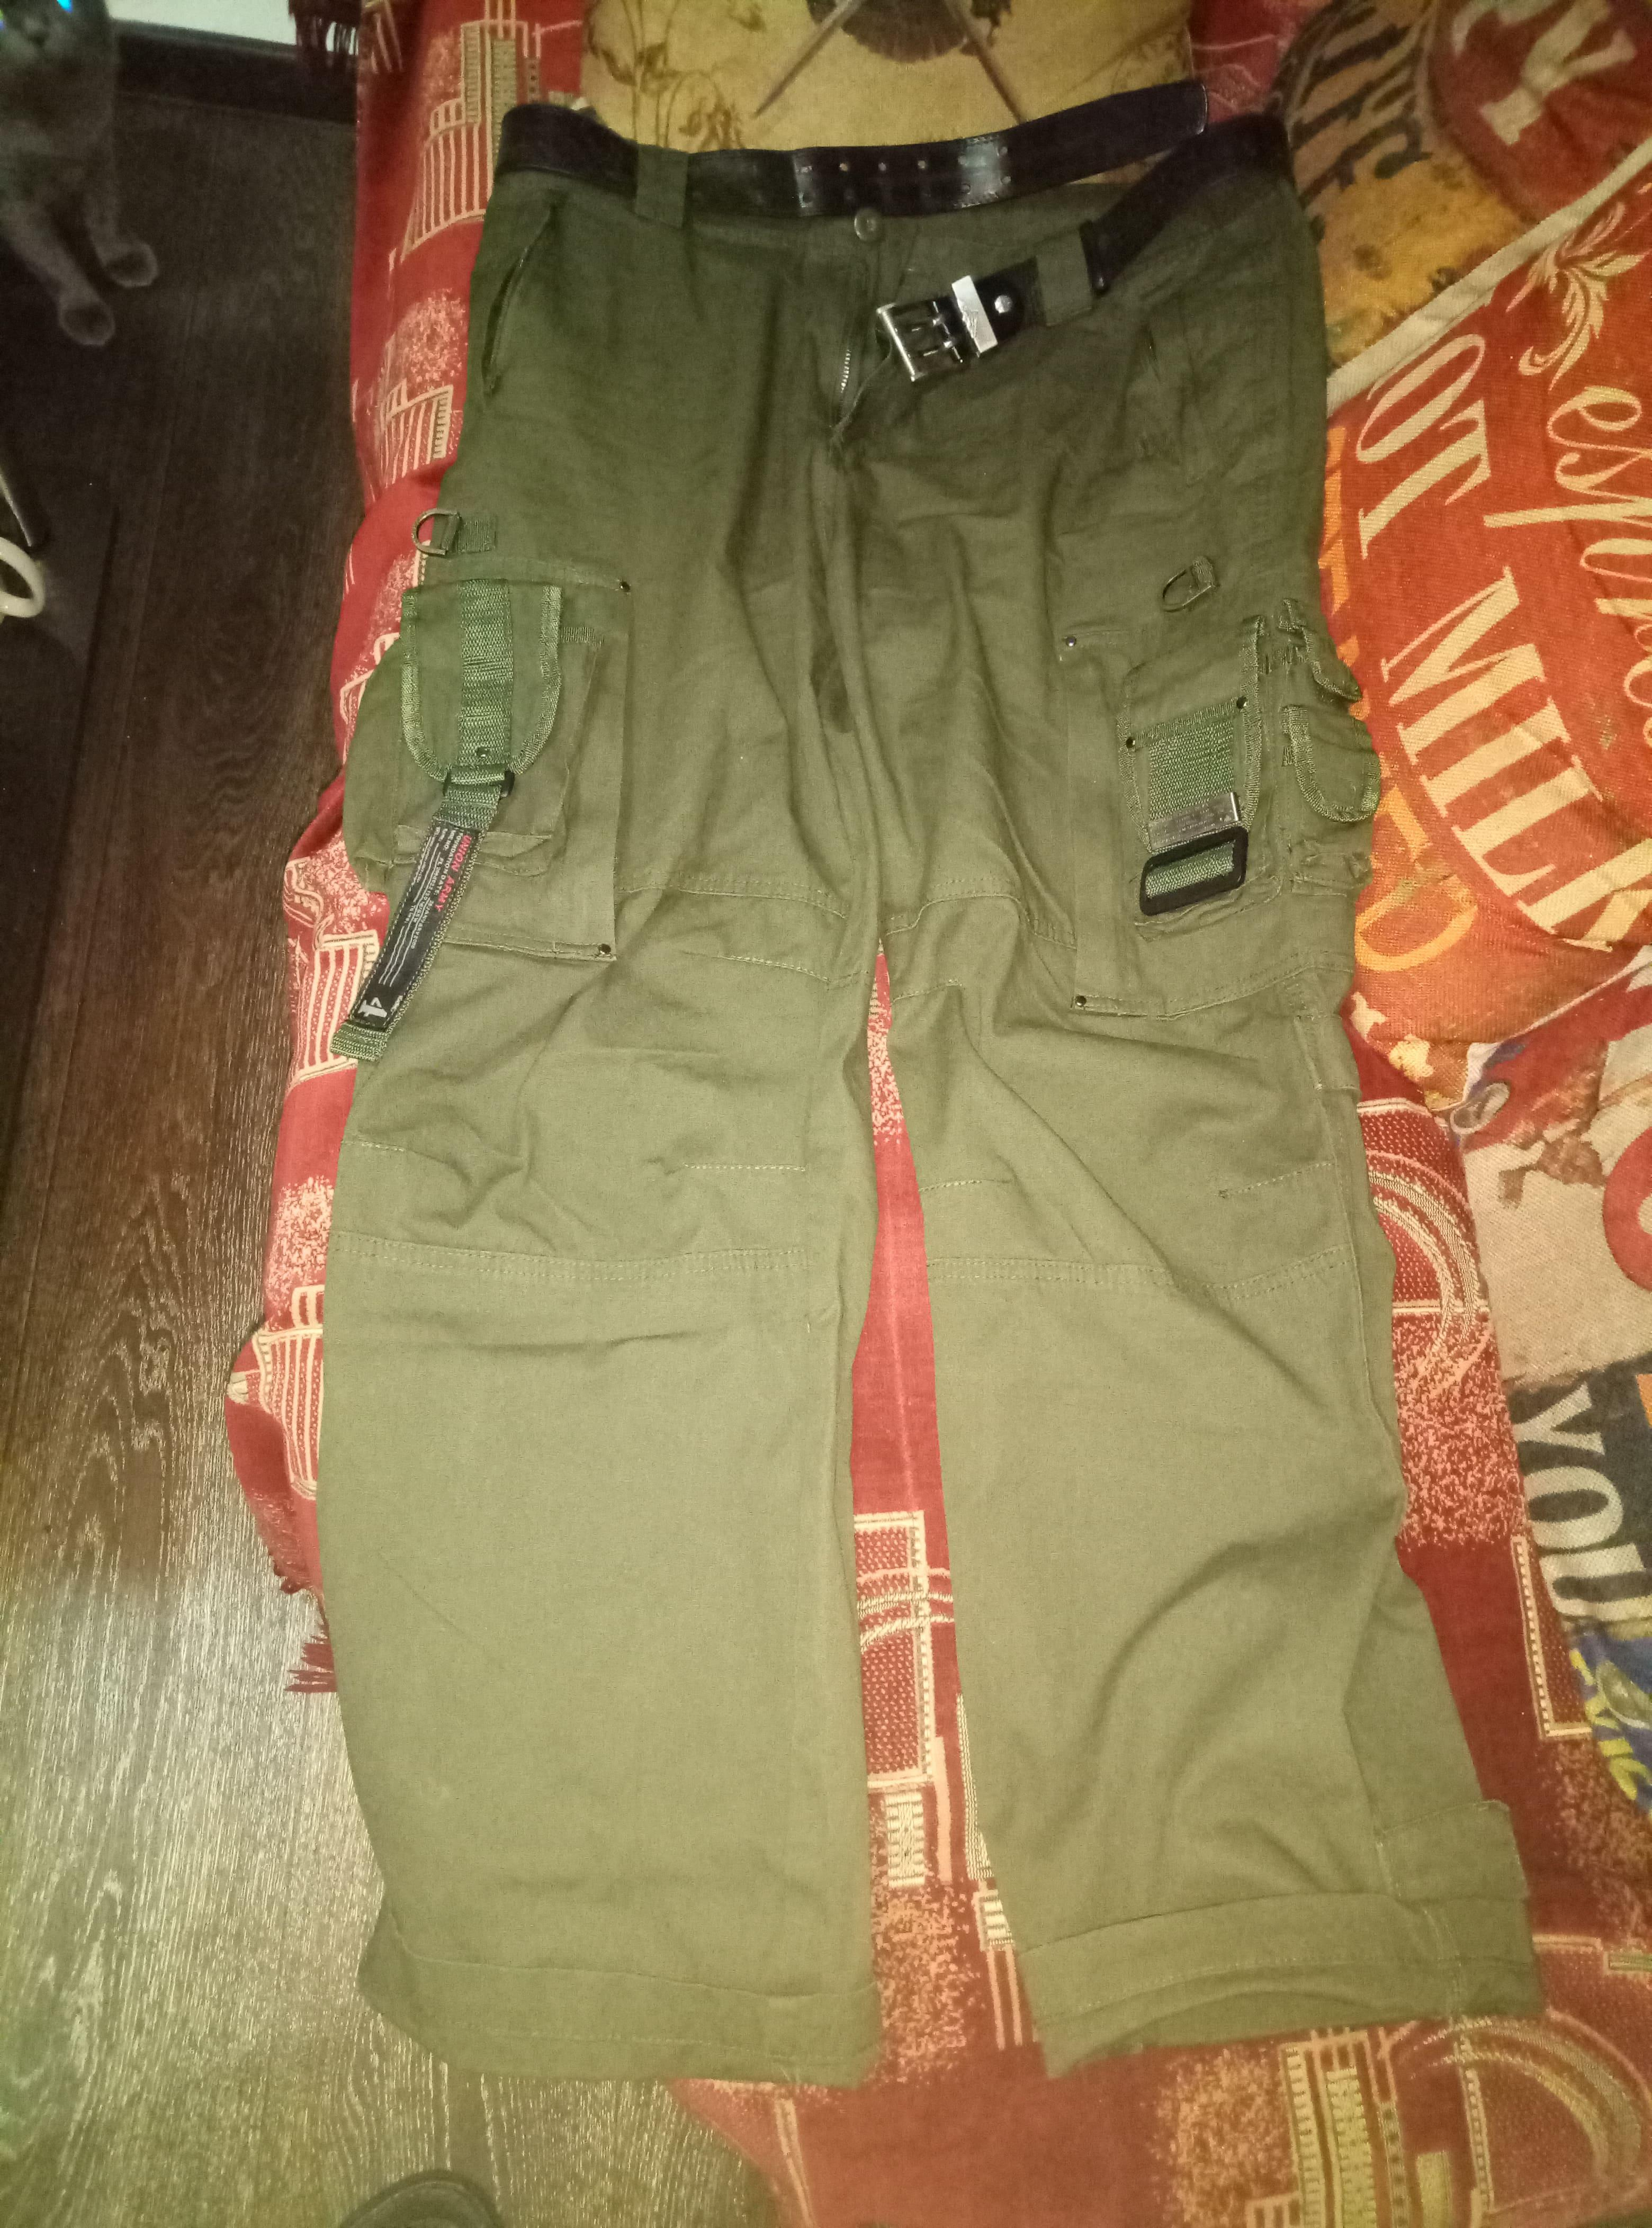pants: (333, 83, 1539, 2030)
